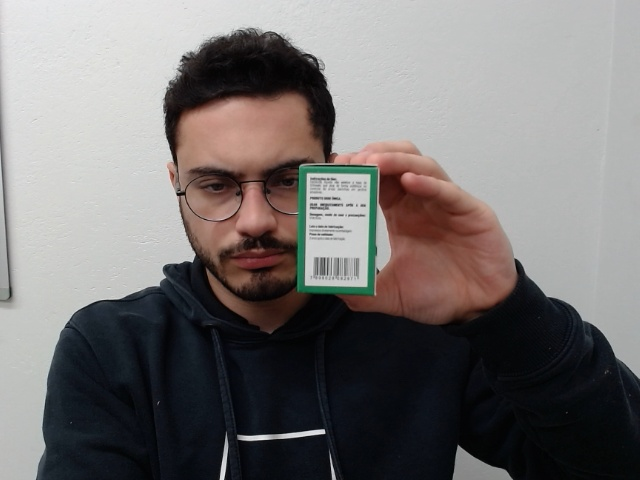divisor: (294, 158, 377, 298)
